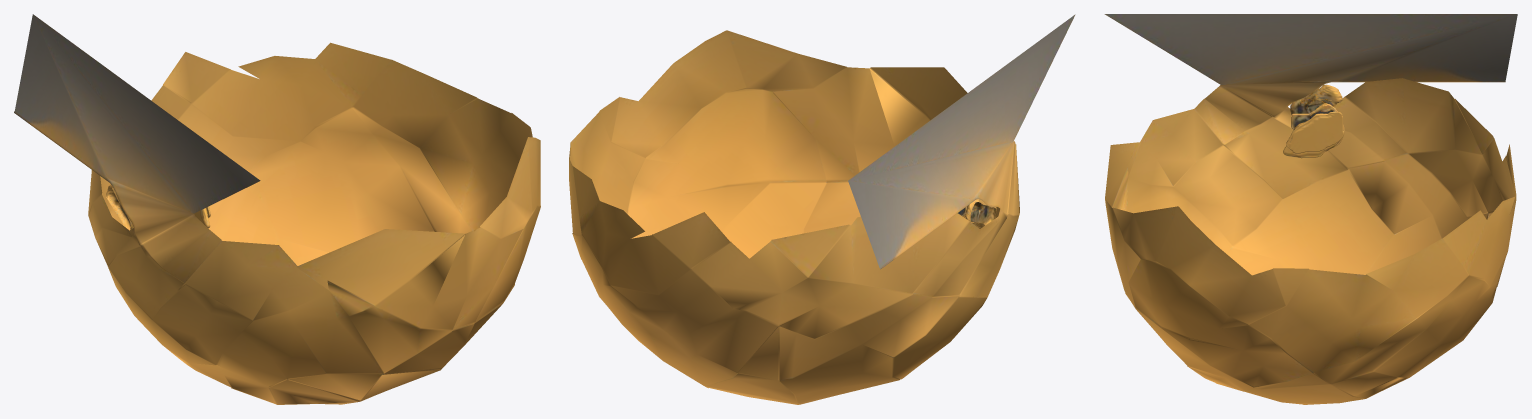
The model's file is helix-fall-orb-CSBNMnW_.glb.
3 renders of one model, left to right at view 1: azimuth 30°, elevation 25°; view 2: azimuth 150°, elevation 25°; view 3: azimuth 270°, elevation 25°, orthographic. The views are drawn at different scales.
Parts seen in each view (by area): view 1: tripo_node_55f15f6f-8b32-4511-a487-9fb0916cf6fd; view 2: tripo_node_55f15f6f-8b32-4511-a487-9fb0916cf6fd; view 3: tripo_node_55f15f6f-8b32-4511-a487-9fb0916cf6fd.
Boxes of the visible parts, x1,y1,x2,y2 form: tripo_node_55f15f6f-8b32-4511-a487-9fb0916cf6fd: (14,14,540,404); tripo_node_55f15f6f-8b32-4511-a487-9fb0916cf6fd: (569,14,1075,404); tripo_node_55f15f6f-8b32-4511-a487-9fb0916cf6fd: (1104,14,1517,404).
Bounding box in the file's own units: 0.9922 × 0.7867 × 0.9961.
Materials: 1 (1 with a texture image).
